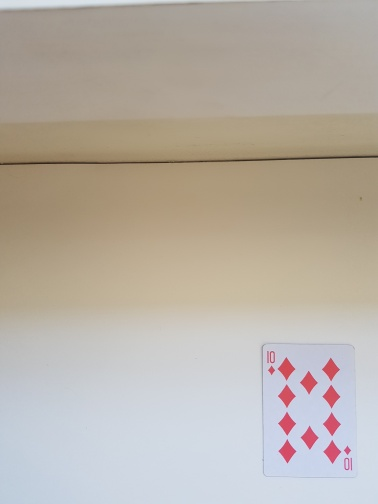ten: (260, 343, 357, 478)
